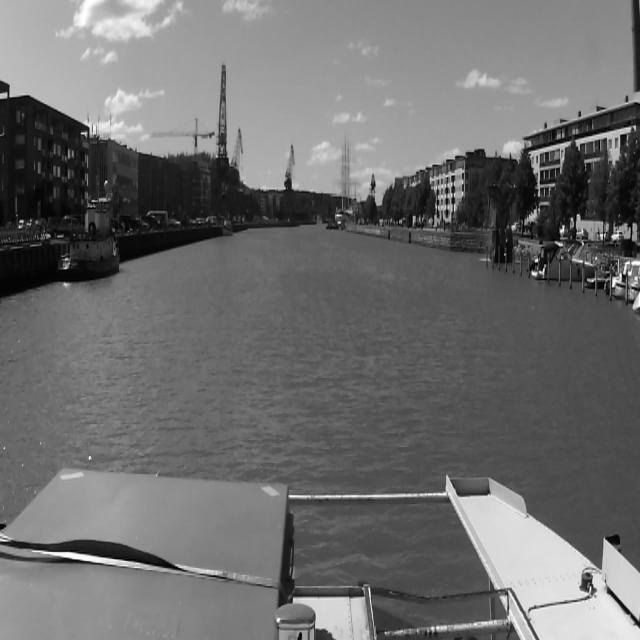ship: (59, 178, 119, 284), (530, 241, 598, 280)
